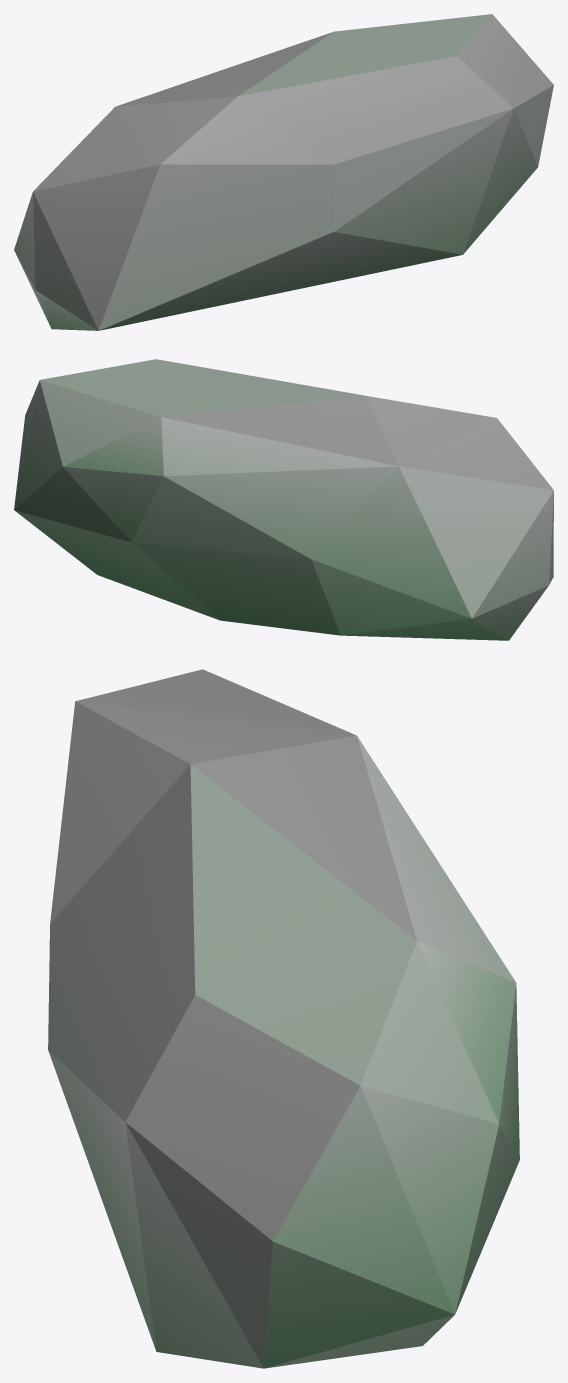
File: Rock_Big_Long_01_Mossy.fbx
3 views of the same model, one above another, from view 1: azimuth 30°, elevation 25°; view 2: azimuth 150°, elevation 25°; view 3: azimuth 270°, elevation 25° (orthographic). The views are drawn at different scales.
Parts seen in each view (by area): view 1: Rock_Big_Long_Mossy; view 2: Rock_Big_Long_Mossy; view 3: Rock_Big_Long_Mossy.
Part boxes in pixels (x1,y1,x2,y2): Rock_Big_Long_Mossy: (14,14,553,330); Rock_Big_Long_Mossy: (14,359,553,640); Rock_Big_Long_Mossy: (48,669,519,1368).
Bounding box in the file's own units: 4 × 1.45 × 1.6.
